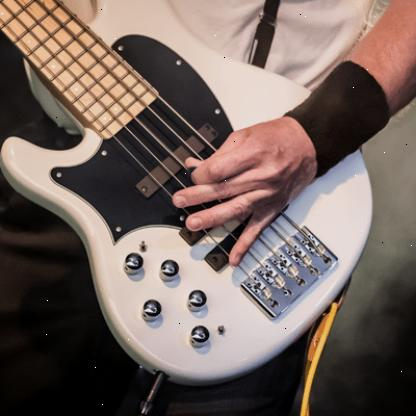bass: (1, 0, 376, 388)
